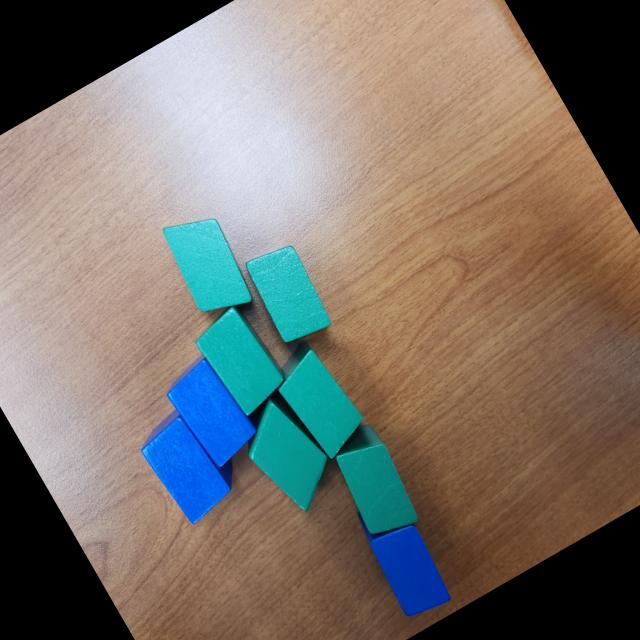blue: (132, 396, 252, 530), (348, 489, 458, 623), (157, 348, 265, 473)
green: (227, 383, 348, 523), (262, 332, 374, 466), (320, 419, 428, 546), (155, 202, 262, 328), (188, 299, 294, 422), (240, 238, 338, 350)
